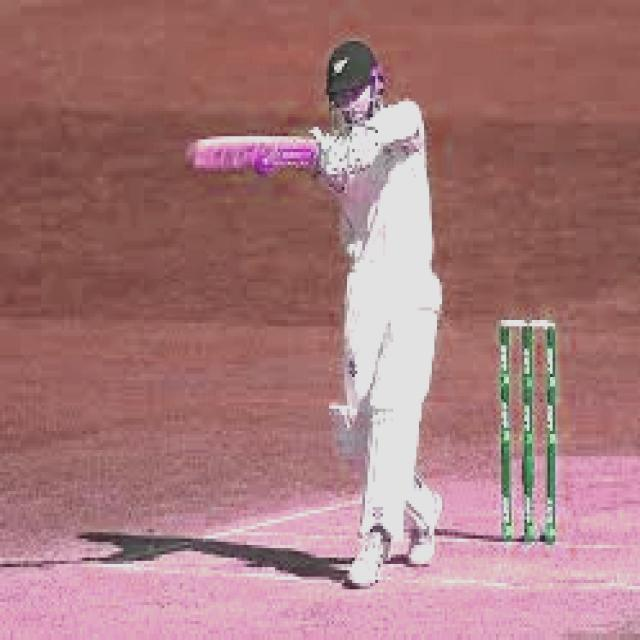toe: (181, 141, 214, 172)
